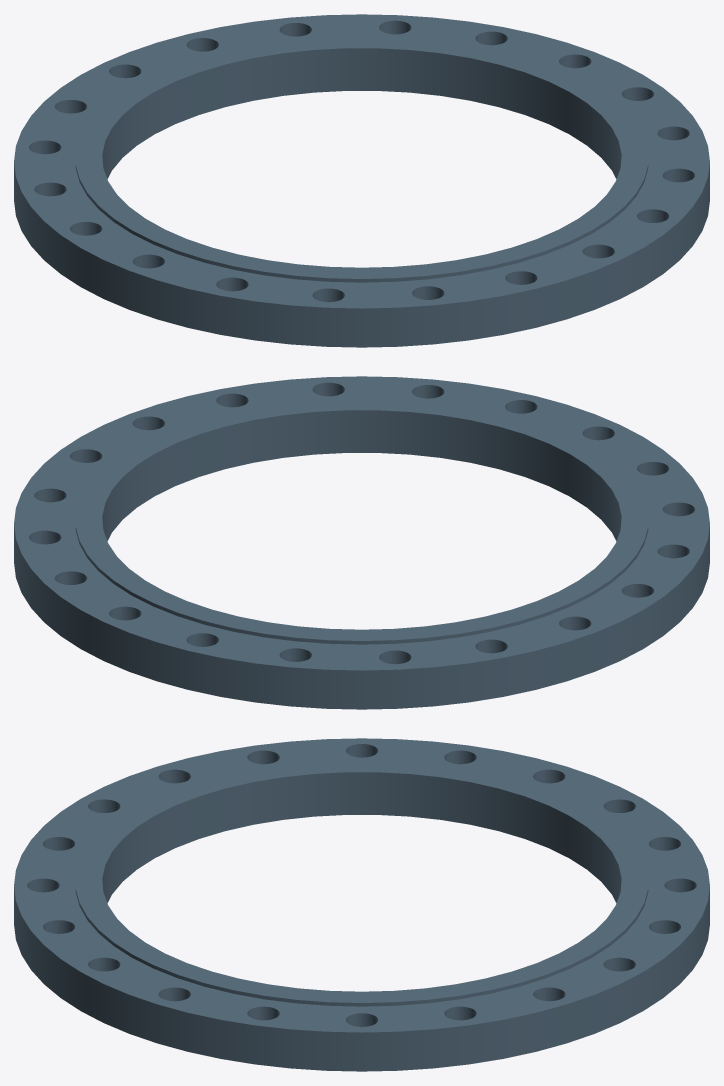
Rendered from flanec-ploskij-DN500-PN16.glb.
3 views of the same model, one above another, from view 1: azimuth 30°, elevation 25°; view 2: azimuth 150°, elevation 25°; view 3: azimuth 270°, elevation 25° (orthographic).
Visible parts, largest first — view 1: Open CASCADE STEP translator 7.9 53; view 2: Open CASCADE STEP translator 7.9 53; view 3: Open CASCADE STEP translator 7.9 53.
Boxes of the visible parts, bbox=[...] form: Open CASCADE STEP translator 7.9 53: bbox=[14, 14, 709, 347]; Open CASCADE STEP translator 7.9 53: bbox=[14, 376, 709, 709]; Open CASCADE STEP translator 7.9 53: bbox=[14, 738, 709, 1071].
Size of the model in its own units: 710 by 48 by 710.
